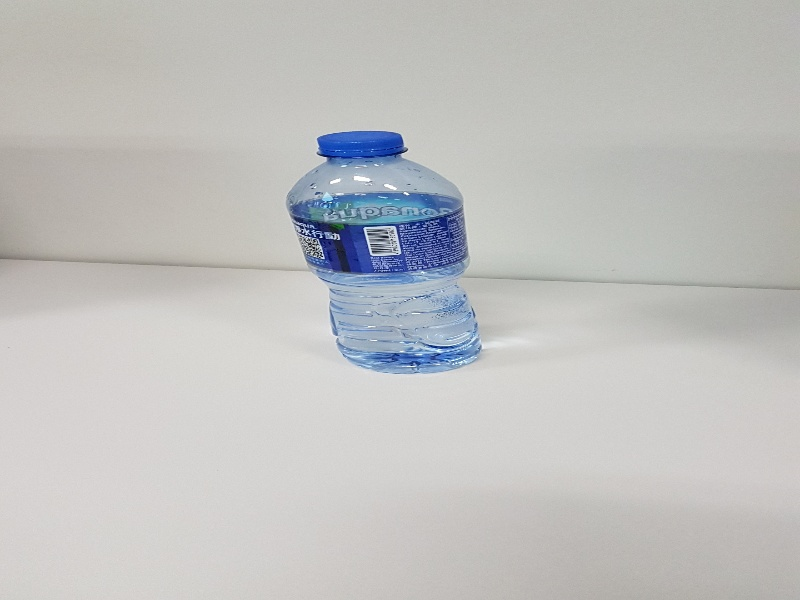Bottle: (285, 131, 484, 376)
